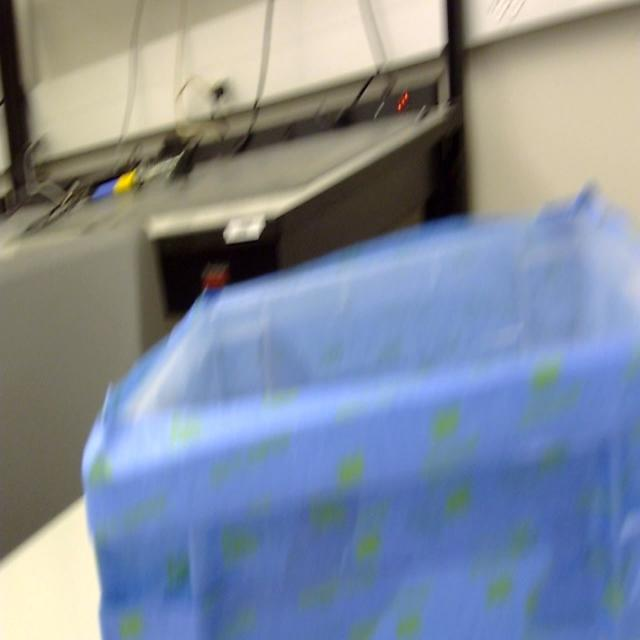bucket: (80, 182, 640, 640)
